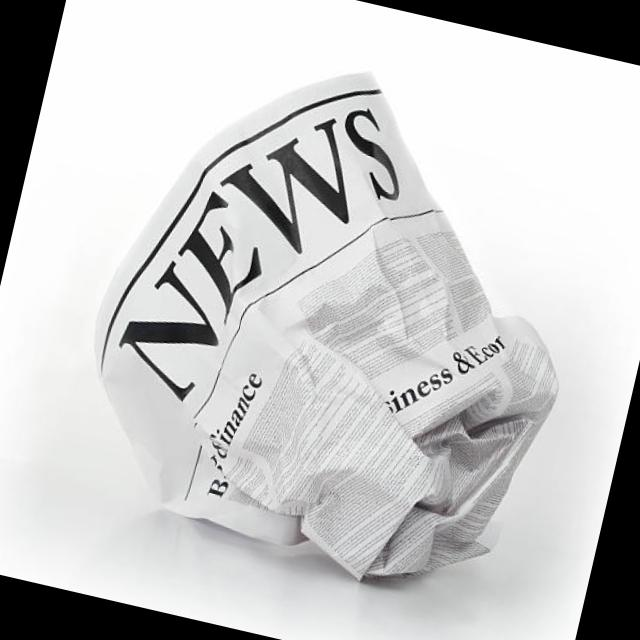electronic: (51, 22, 619, 614)
